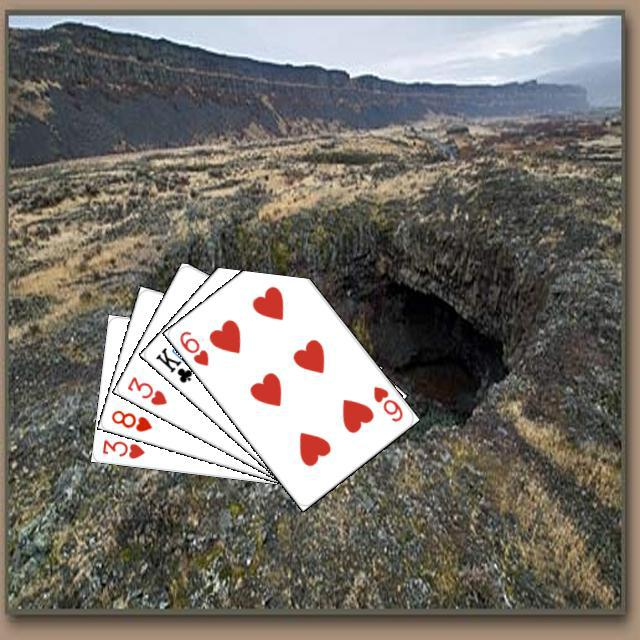3h: (122, 371, 169, 407), (97, 435, 146, 460)
6h: (368, 381, 405, 424), (174, 326, 210, 368)
8h: (106, 405, 154, 433)
Kc: (150, 342, 202, 385)
